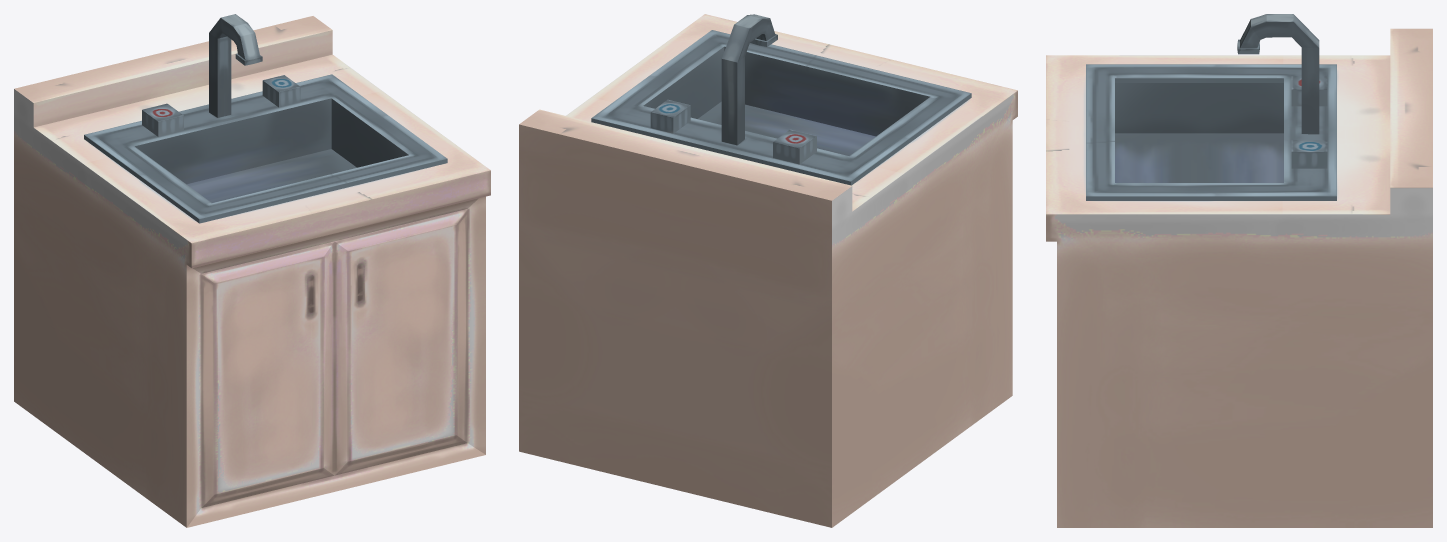
The model's file is KitchenSink.fbx.
The picture shows the model from 3 angles, left to right: view 1: azimuth 30°, elevation 25°; view 2: azimuth 150°, elevation 25°; view 3: azimuth 270°, elevation 25°; orthographic projection. The views are drawn at different scales.
Parts seen in each view (by area): view 1: KitchenSink; view 2: KitchenSink; view 3: KitchenSink.
Boxes of the visible parts, x1,y1,x2,y2 form: KitchenSink: (14,14,490,527); KitchenSink: (519,14,1017,527); KitchenSink: (1046,14,1432,527).
Size of the model in its own units: 72.94 by 92.21 by 75.03.
Materials: 1 (1 with a texture image).
